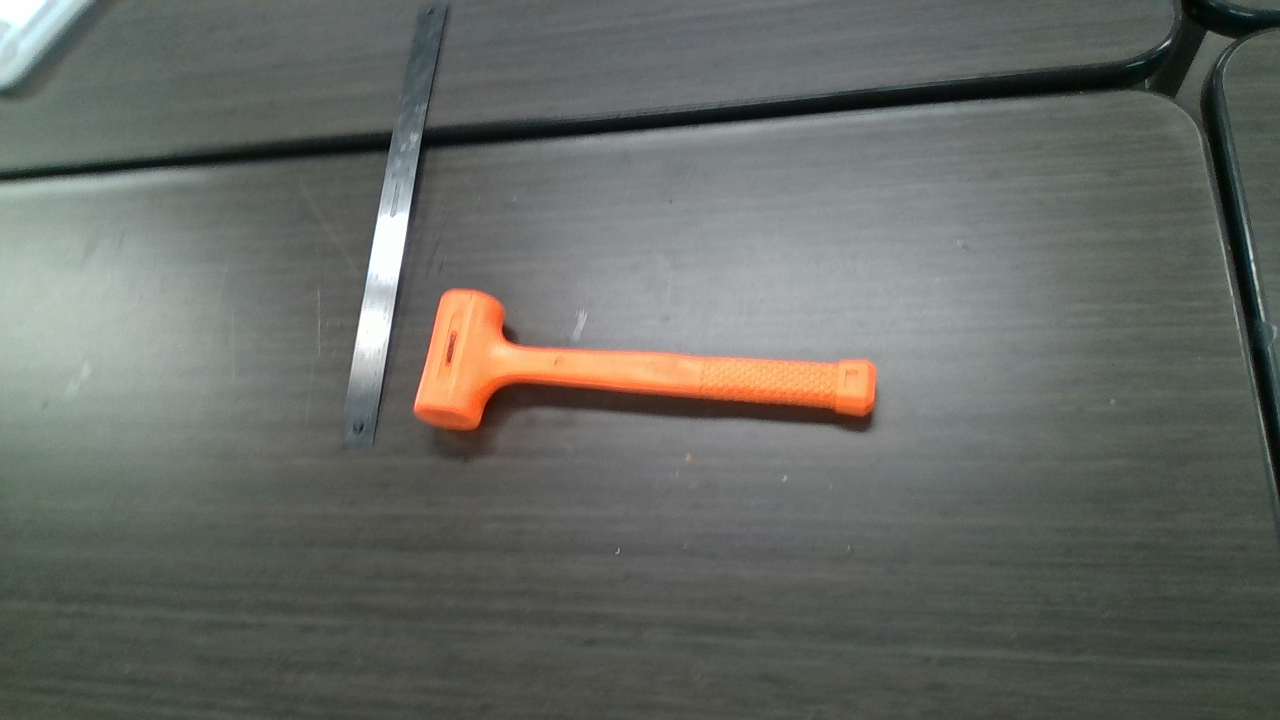Orange Hammer: (417, 290, 877, 431)
